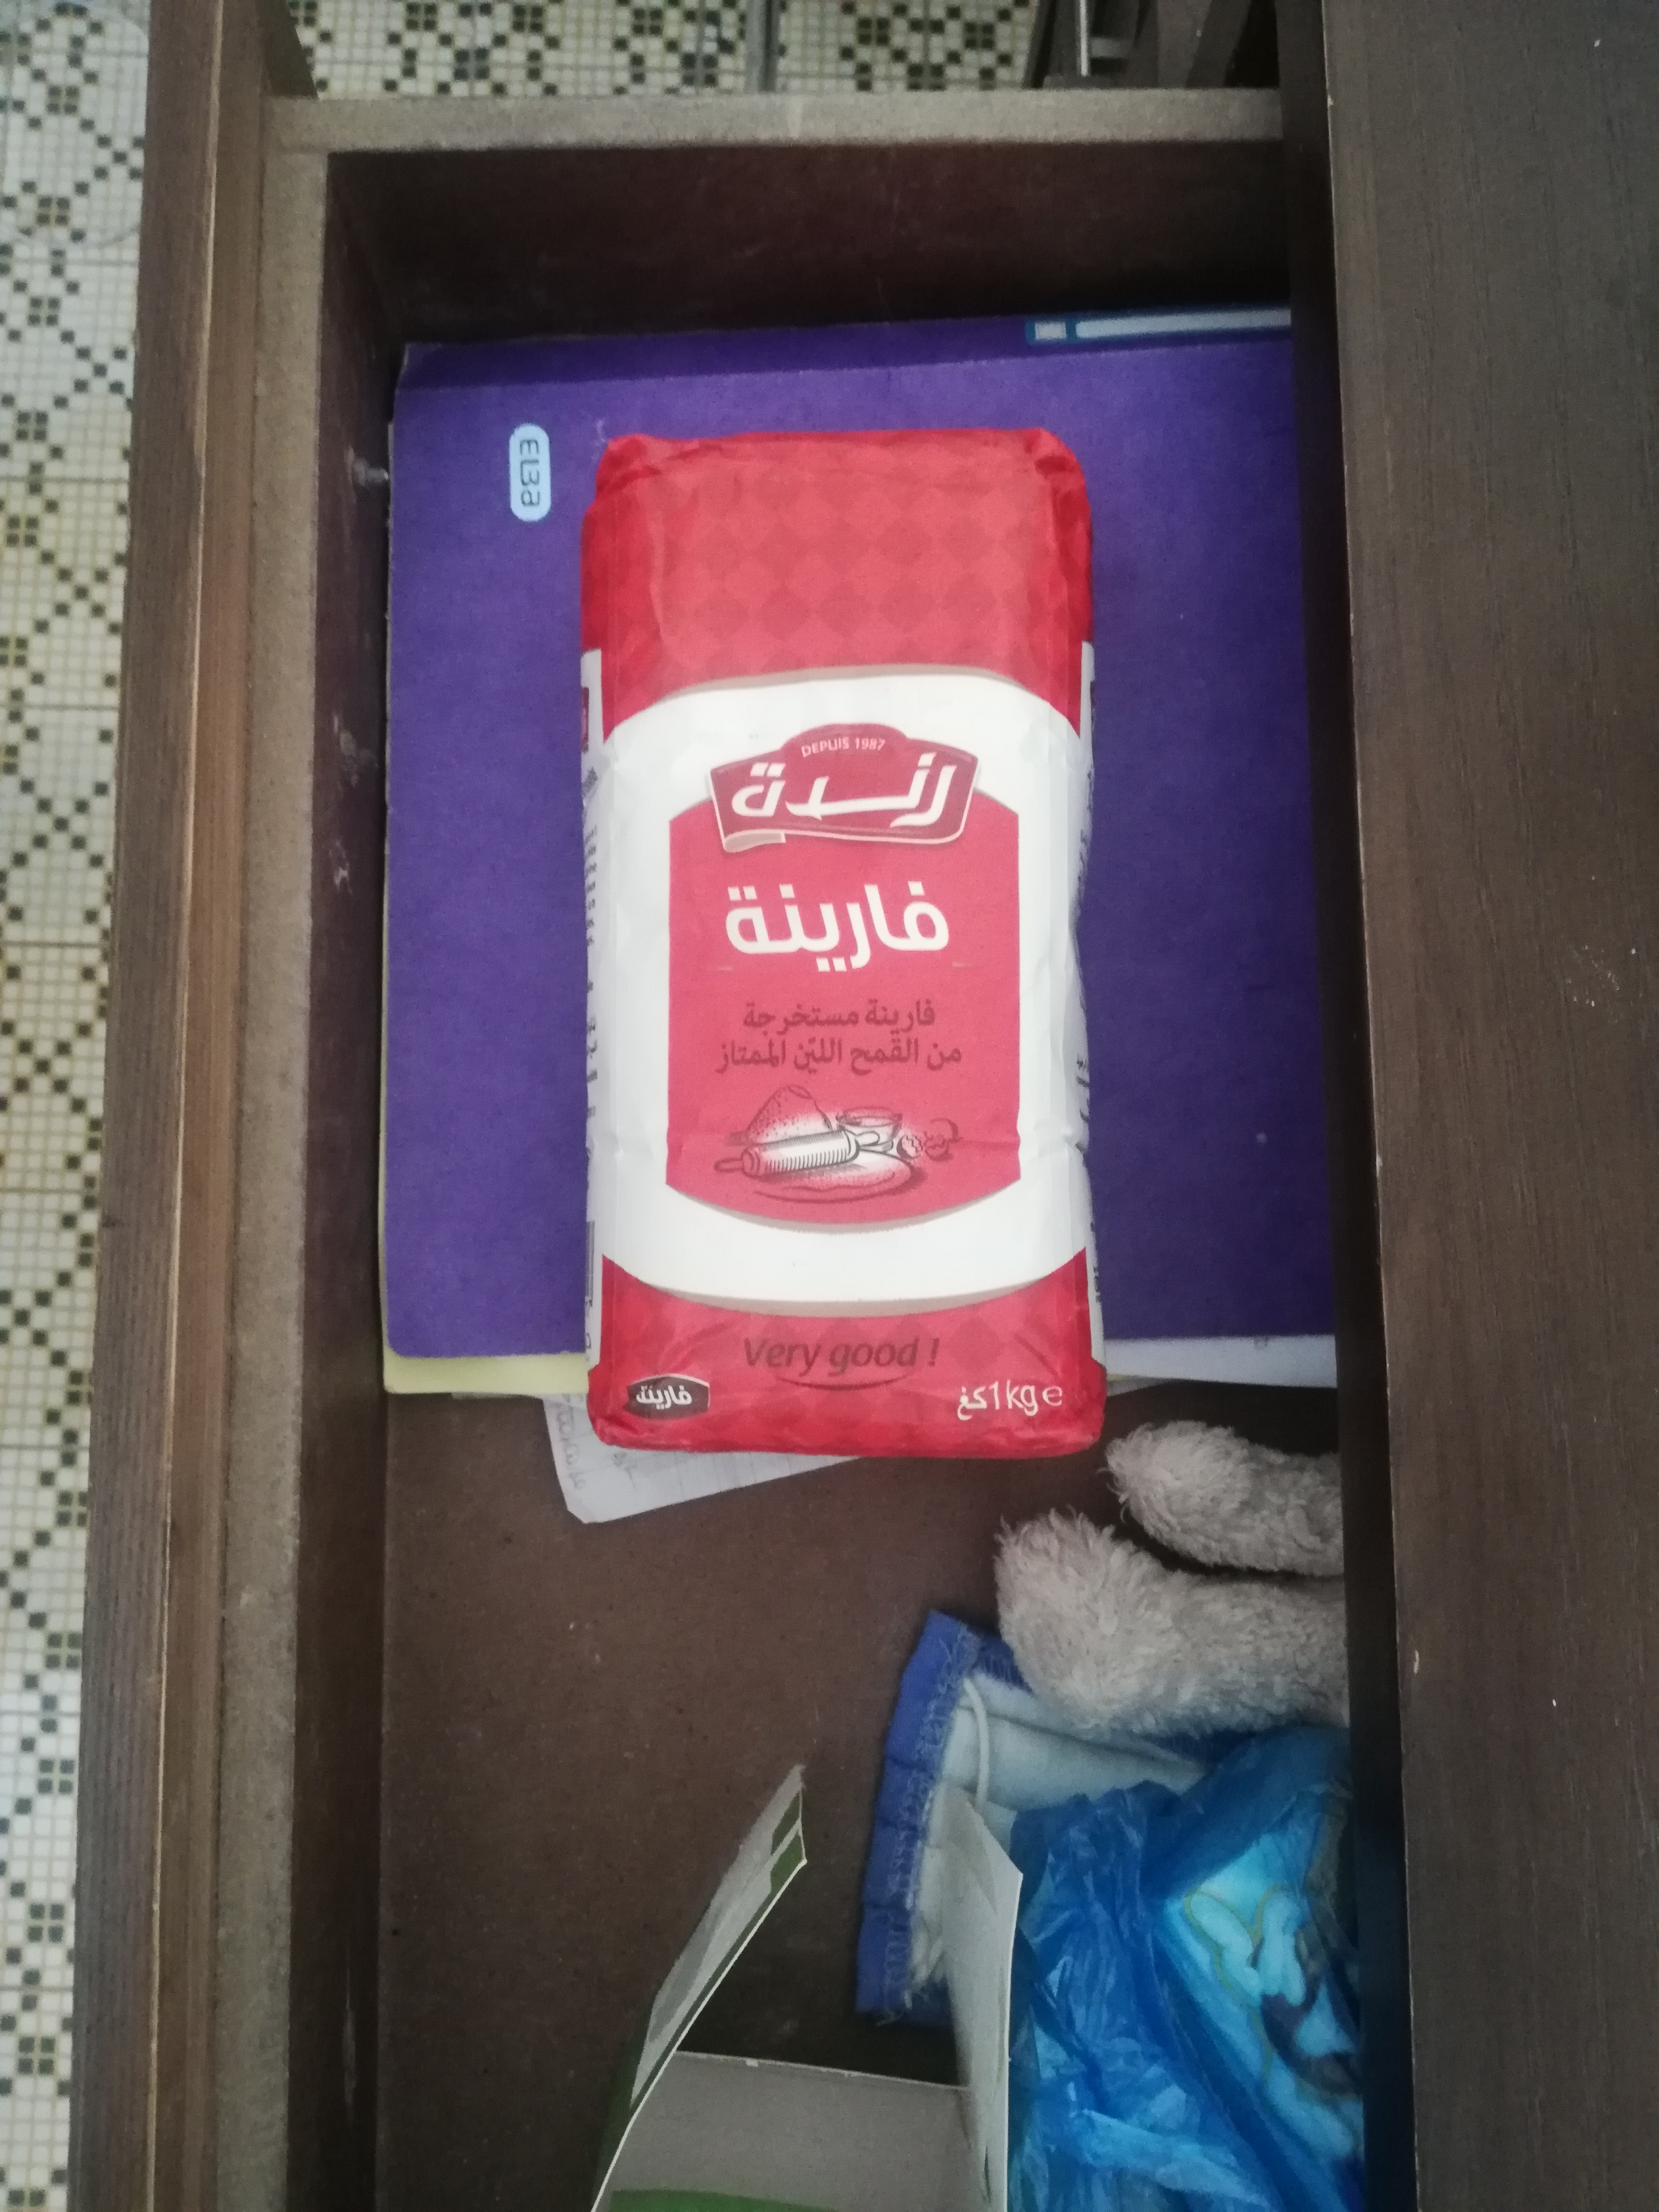Farine Randa: (575, 430, 1100, 1456)
